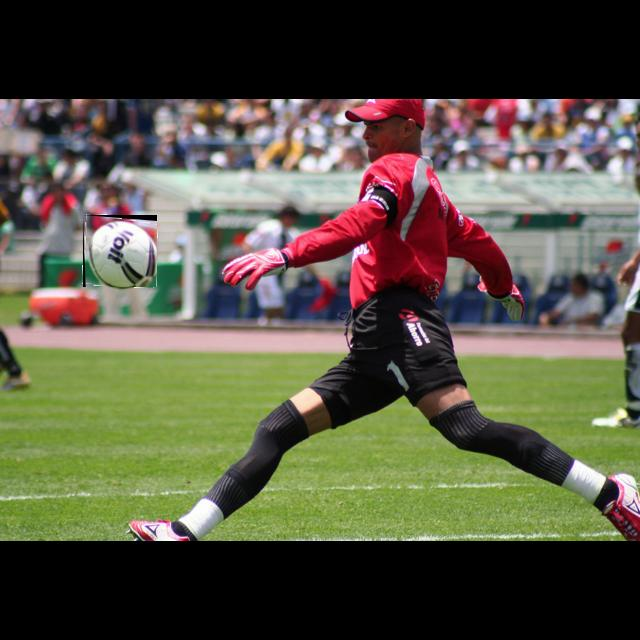Football: (83, 215, 157, 287)
